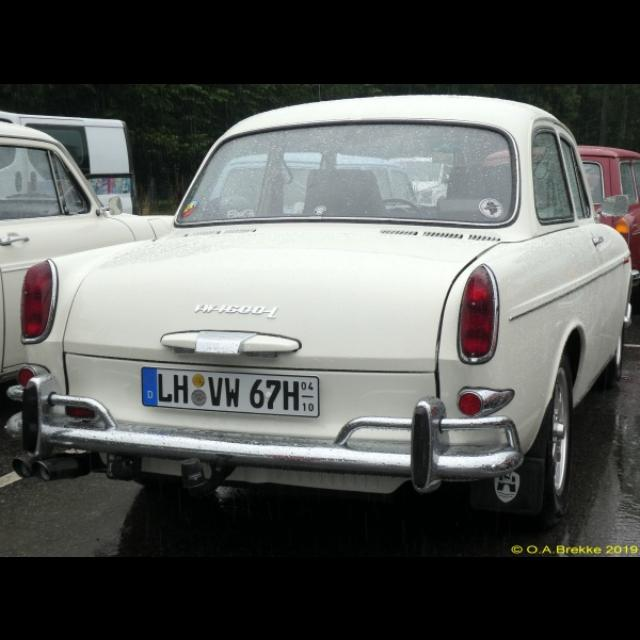d_license_plate: (141, 365, 319, 415)
